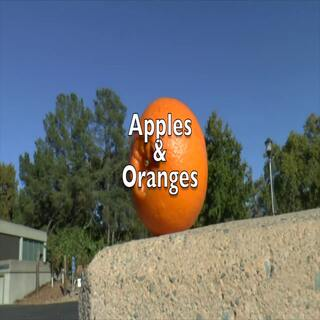orange: (120, 92, 226, 253)
